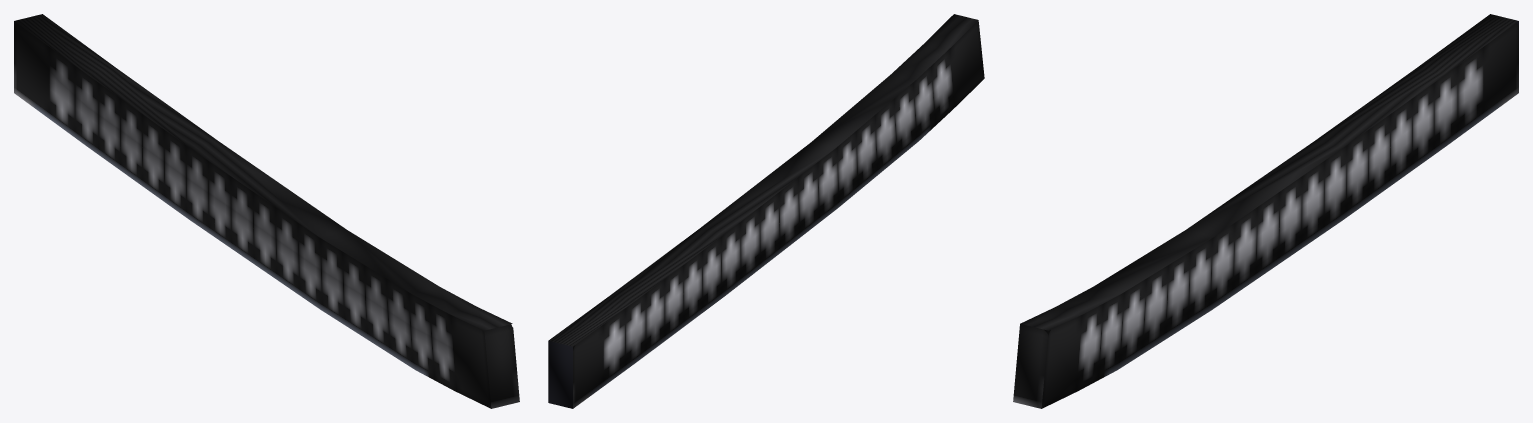
The model's file is katana_sheath.obj.
3 views of the same model, side by side, from view 1: azimuth 30°, elevation 25°; view 2: azimuth 150°, elevation 25°; view 3: azimuth 330°, elevation 25° (orthographic). The views are drawn at different scales.
Visible parts, largest first — view 1: katana_sheath; view 2: katana_sheath; view 3: katana_sheath.
Part boxes in pixels (x1,y1,x2,y2): katana_sheath: (14,14,519,408); katana_sheath: (548,14,984,408); katana_sheath: (1013,14,1518,408).
Size of the model in its own units: 0.0587 by 0.2098 by 1.7.
